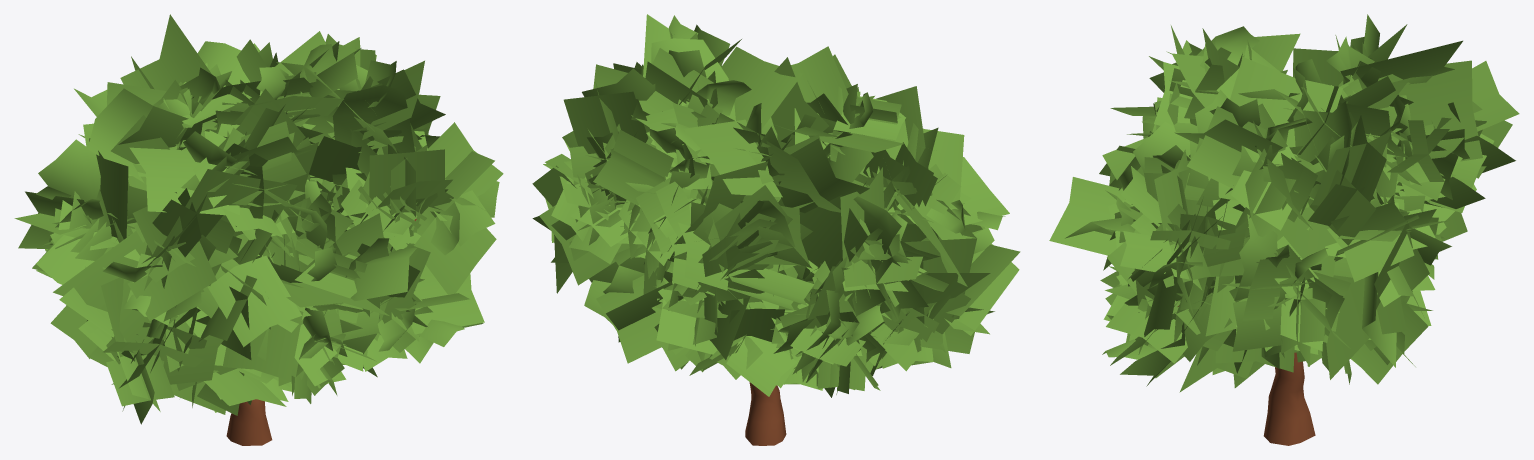
File: tree_01.glb
3 views of the same model, side by side, from view 1: azimuth 30°, elevation 25°; view 2: azimuth 150°, elevation 25°; view 3: azimuth 270°, elevation 25° (orthographic). The views are drawn at different scales.
Visible parts, largest first — view 1: tree_WC_01-col; view 2: tree_WC_01-col; view 3: tree_WC_01-col.
Boxes of the visible parts, x1,y1,x2,y2 form: tree_WC_01-col: (14,14,503,445); tree_WC_01-col: (532,14,1020,445); tree_WC_01-col: (1049,14,1519,445).
Size of the model in its own units: 10.62 by 9.05 by 9.61.
